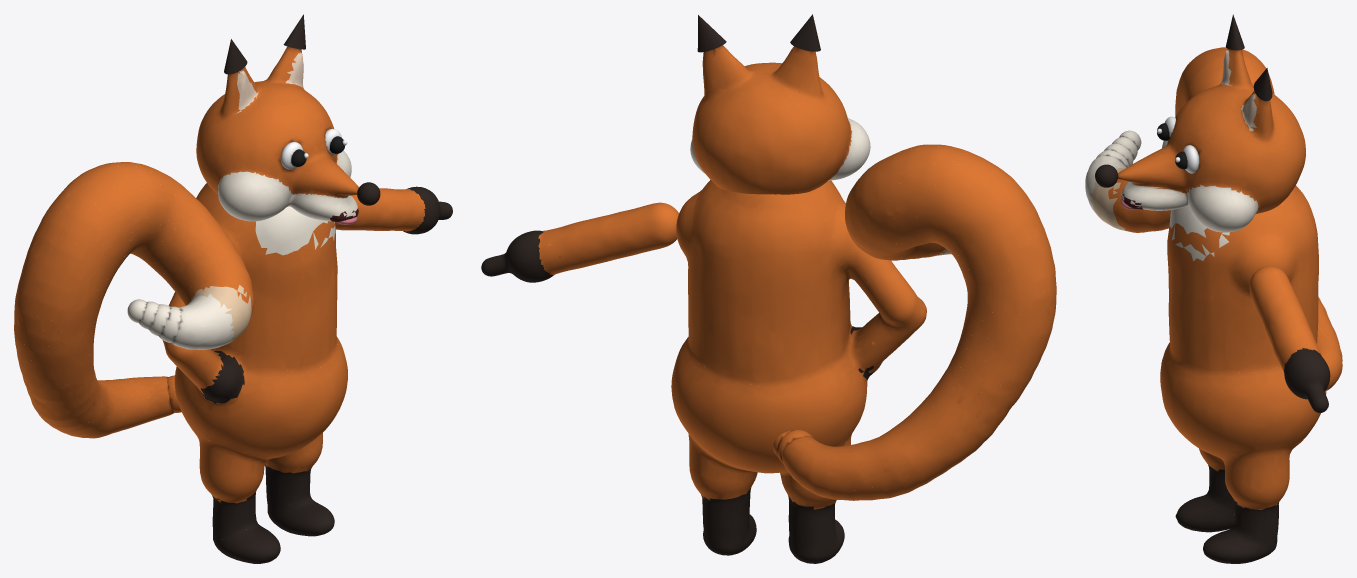
File: kom-in-och-satt-dig.glb
3 renders of one model, left to right at view 1: azimuth 30°, elevation 25°; view 2: azimuth 150°, elevation 25°; view 3: azimuth 270°, elevation 25°, orthographic. The views are drawn at different scales.
Parts seen in each view (by area): view 1: raposa__r0, rabo__r0, cabeca__r0, pata__r0; view 2: raposa__r0, rabo__r0, cabeca__r0, pata__r0; view 3: raposa__r0, cabeca__r0, rabo__r0, pata__r0, cabeca__r5, cabeca__r1, cabeca__r7, cabeca__r2.
Boxes of the visible parts, x1=… form: raposa__r0: x1=162, y1=183, x2=347, y2=563; rabo__r0: x1=14, y1=162, x2=254, y2=438; cabeca__r0: x1=196, y1=46, x2=358, y2=221; pata__r0: x1=335, y1=186, x2=452, y2=234; raposa__r0: x1=671, y1=180, x2=926, y2=563; rabo__r0: x1=782, y1=144, x2=1056, y2=500; cabeca__r0: x1=690, y1=45, x2=870, y2=194; pata__r0: x1=481, y1=202, x2=678, y2=282; raposa__r0: x1=1160, y1=185, x2=1326, y2=563; cabeca__r0: x1=1118, y1=49, x2=1305, y2=232; rabo__r0: x1=1085, y1=47, x2=1342, y2=390; pata__r0: x1=1249, y1=266, x2=1330, y2=412; cabeca__r5: x1=1095, y1=164, x2=1118, y2=187; cabeca__r1: x1=1253, y1=68, x2=1272, y2=101; cabeca__r7: x1=1225, y1=14, x2=1244, y2=50; cabeca__r2: x1=1182, y1=145, x2=1199, y2=173.
Size of the model in its own units: 1.81 by 1.85 by 0.8434.
